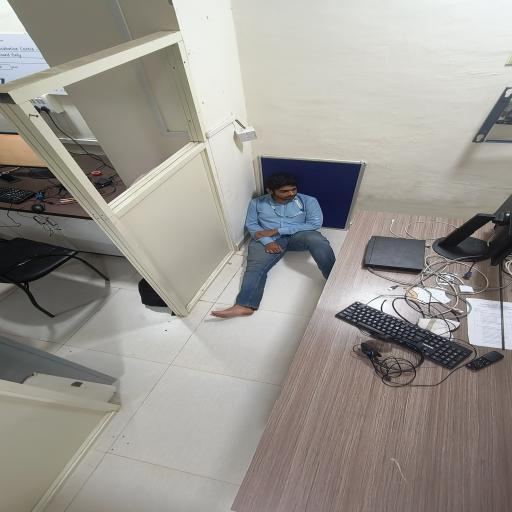survivor: (210, 173, 336, 318)
